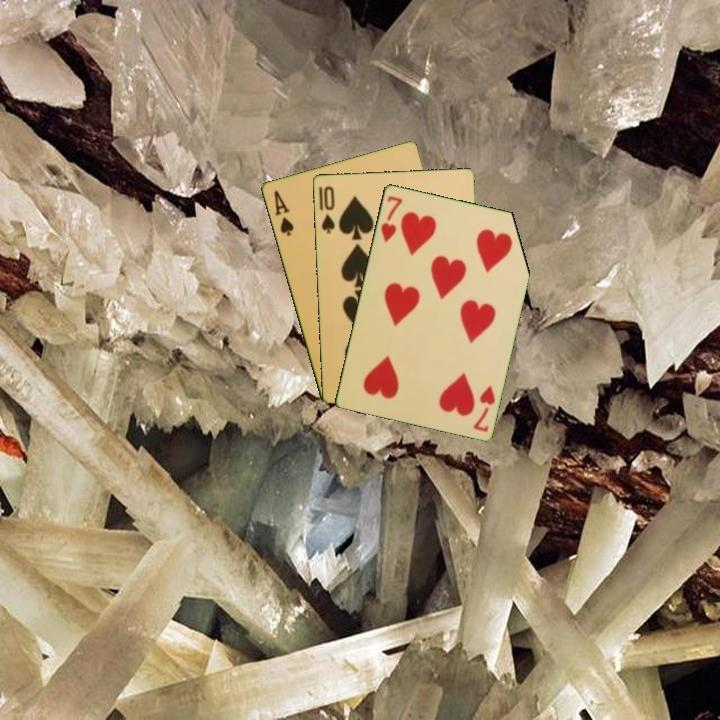10s: (318, 182, 337, 236)
7h: (377, 192, 405, 246), (470, 381, 498, 434)
As: (270, 186, 296, 238)
